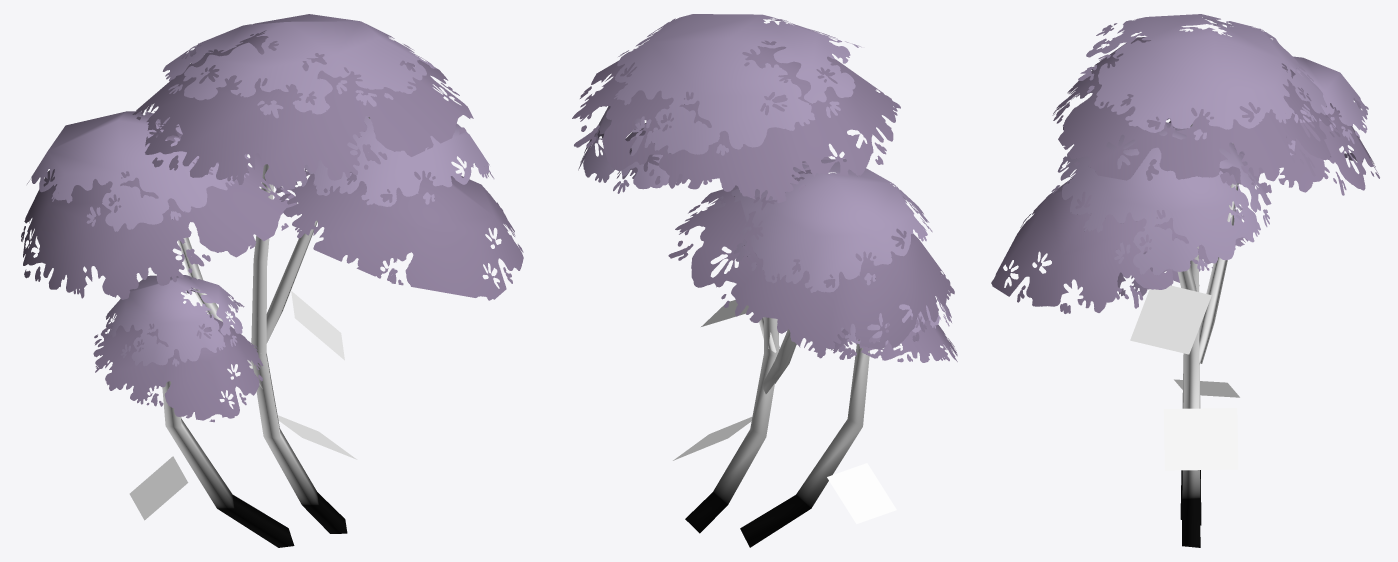
The model's file is Flower_MID1A.fbx.
3 renders of one model, left to right at view 1: azimuth 30°, elevation 25°; view 2: azimuth 150°, elevation 25°; view 3: azimuth 270°, elevation 25°, orthographic. The views are drawn at different scales.
Visible parts, largest first — view 1: MID_1A; view 2: MID_1A; view 3: MID_1A.
Part boxes in pixels (x1,y1,x2,y2): MID_1A: (21, 14, 523, 547); MID_1A: (572, 14, 957, 547); MID_1A: (991, 14, 1379, 547).
Bounding box in the file's own units: 5.22 × 6.23 × 4.47.
Materials: 2 (1 with a texture image).
